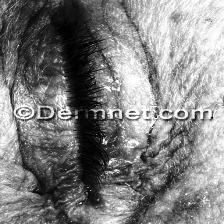Non-Cancerous Skin Condition: (5, 181, 208, 224), (89, 37, 161, 99), (104, 132, 158, 168)
